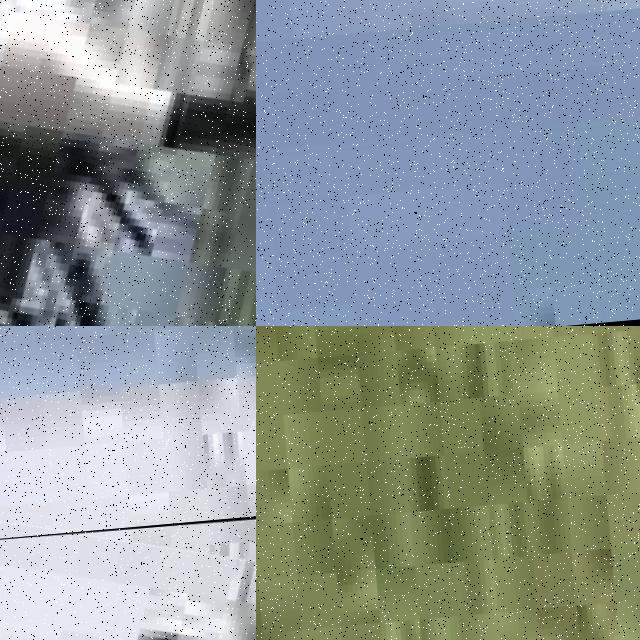drone: (0, 0, 256, 326), (0, 492, 256, 640)
